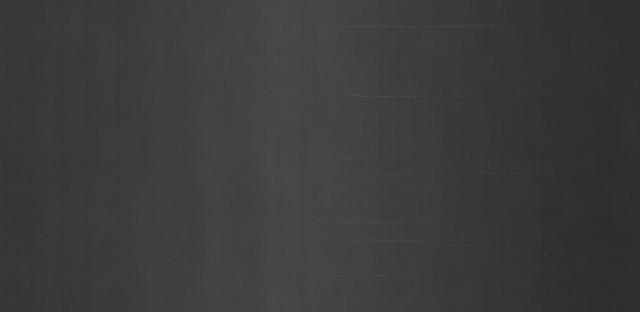waist_folding: (320, 24, 535, 300)
